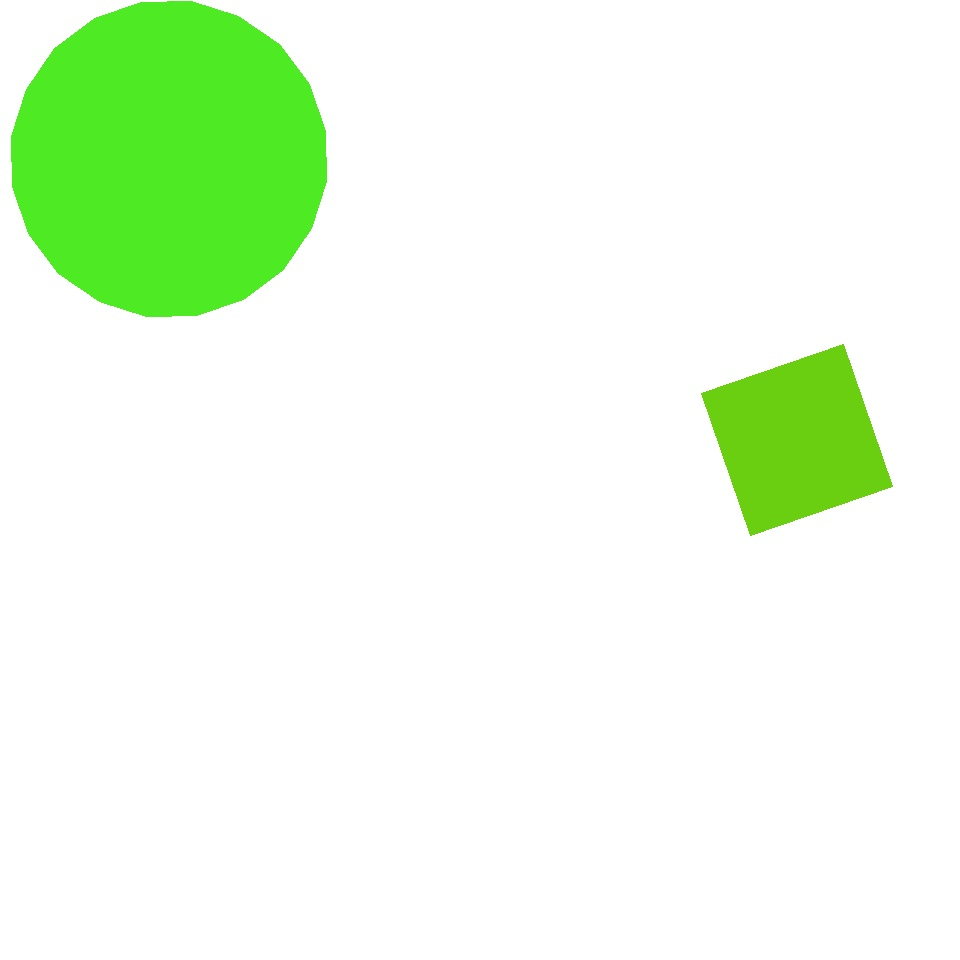circle: (254, 322, 512, 594), (312, 51, 418, 164), (28, 516, 140, 618)
square: (324, 159, 588, 422), (702, 344, 892, 535)
triangle: (320, 438, 685, 802), (12, 1, 326, 316), (478, 228, 598, 348)
